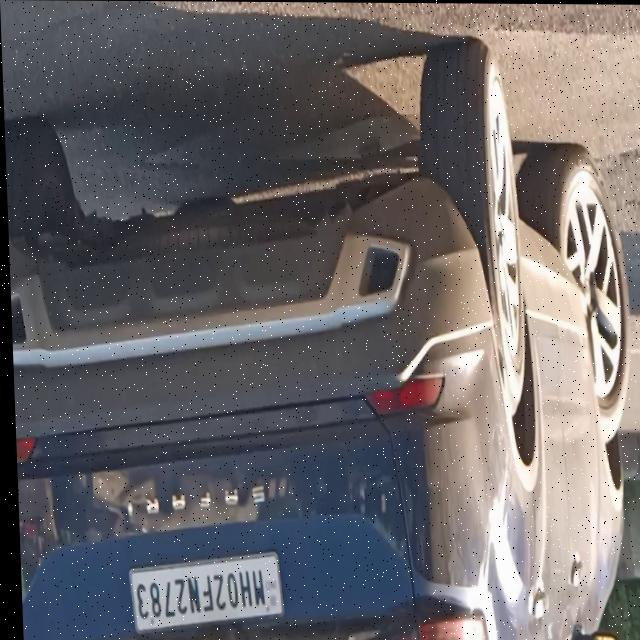plate: (123, 550, 281, 635)
